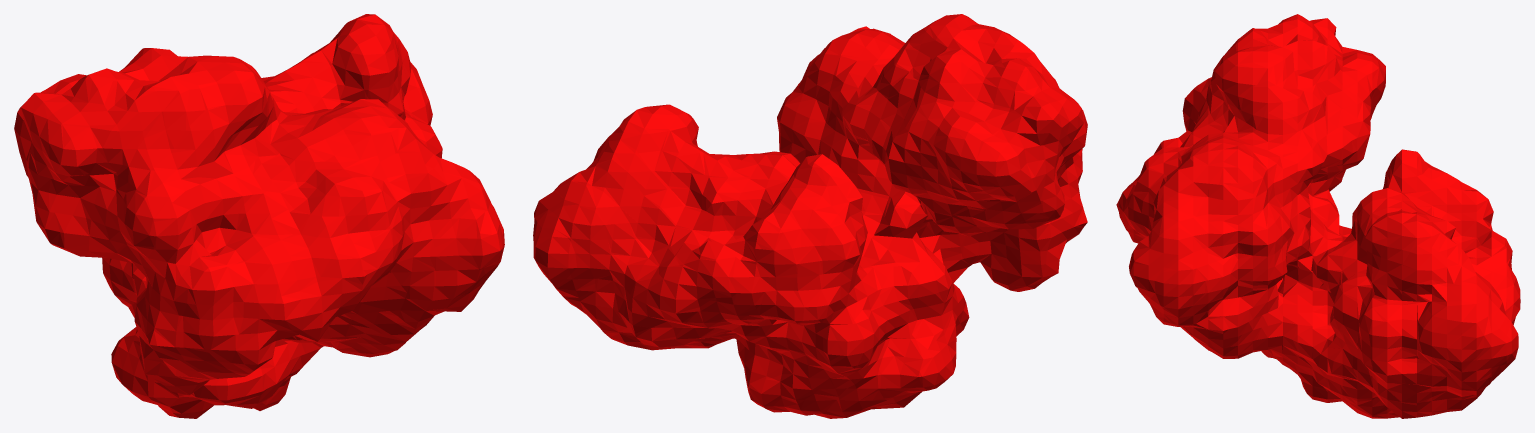
File: Ectonucleotide_pyrophosphatase_coarse.dae
The picture shows the model from 3 angles, left to right: view 1: azimuth 30°, elevation 25°; view 2: azimuth 150°, elevation 25°; view 3: azimuth 270°, elevation 25°; orthographic projection. The views are drawn at different scales.
Visible parts, largest first — view 1: Ectonucleotide_pyrophosphatase; view 2: Ectonucleotide_pyrophosphatase; view 3: Ectonucleotide_pyrophosphatase.
Part boxes in pixels (x1,y1,x2,y2): Ectonucleotide_pyrophosphatase: (14, 14, 504, 418); Ectonucleotide_pyrophosphatase: (533, 14, 1087, 418); Ectonucleotide_pyrophosphatase: (1116, 14, 1520, 418).
Bounding box in the file's own units: 123 × 96.31 × 109.
